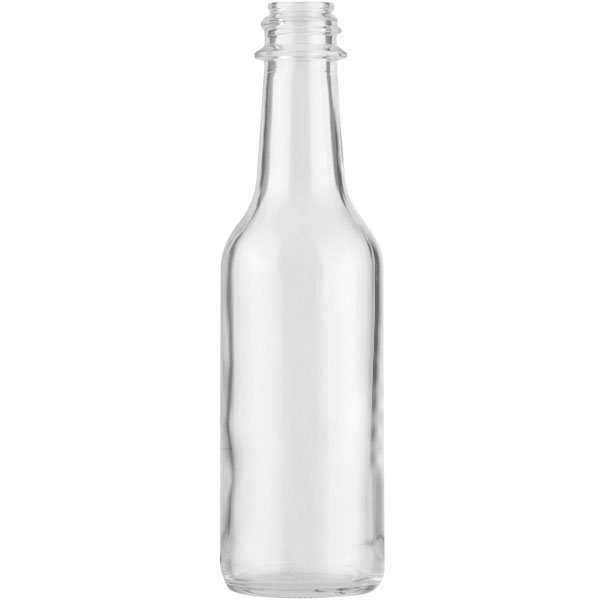container: (214, 4, 395, 600)
